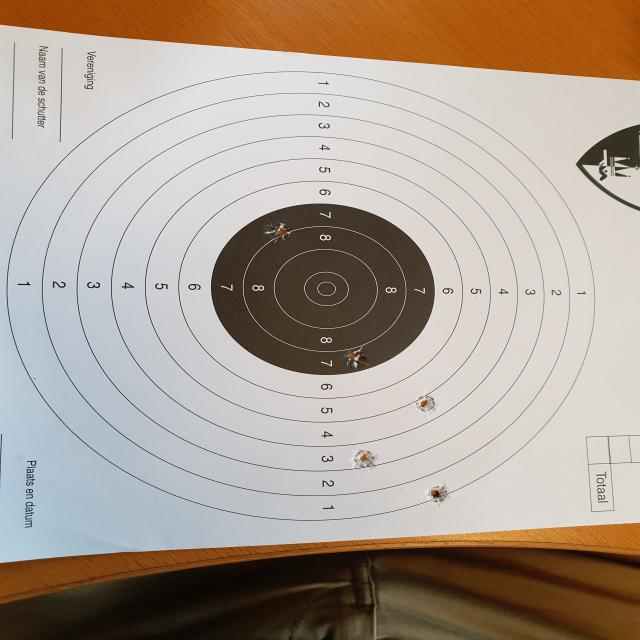1: (423, 482, 455, 508)
3: (346, 451, 379, 470)
5: (408, 392, 442, 415)
7: (337, 346, 372, 369)
8: (261, 216, 298, 244)
Target: (5, 72, 598, 520)
black_contour: (212, 203, 435, 375)
